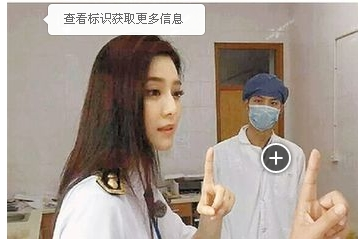face: (132, 56, 184, 149)
face_mask: (247, 91, 280, 131)
